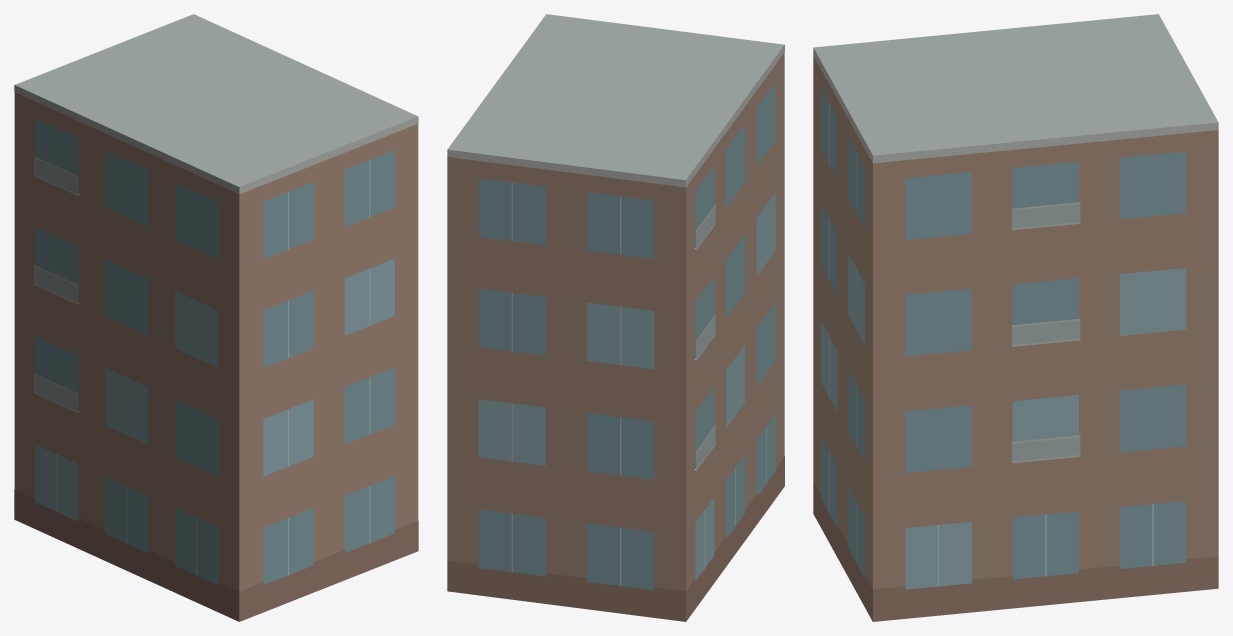
File: survey-upis-32807632.glb
3 views of the same model, side by side, from view 1: azimuth 30°, elevation 25°; view 2: azimuth 150°, elevation 25°; view 3: azimuth 270°, elevation 25° (orthographic). The views are drawn at different scales.
Visible parts, largest first — view 1: survey-upis-32807632.tmp; view 2: survey-upis-32807632.tmp; view 3: survey-upis-32807632.tmp.
Part boxes in pixels (bbox=[...]): survey-upis-32807632.tmp: bbox=[14, 14, 418, 621]; survey-upis-32807632.tmp: bbox=[447, 14, 784, 621]; survey-upis-32807632.tmp: bbox=[813, 14, 1218, 621].
Bounding box in the file's own units: 9.66 × 14.8 × 11.67.
